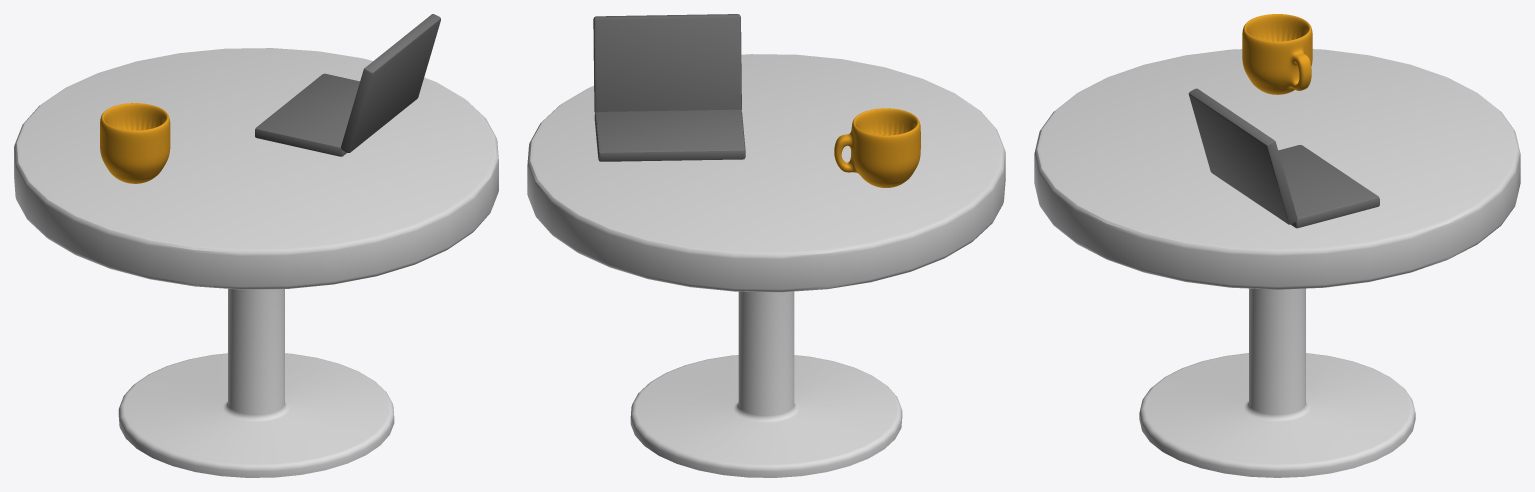
Rendered from table.glb.
The picture shows the model from 3 angles, left to right: view 1: azimuth 30°, elevation 25°; view 2: azimuth 150°, elevation 25°; view 3: azimuth 270°, elevation 25°; orthographic projection.
Visible parts, largest first — view 1: Cafe.001; view 2: Cafe.001; view 3: Cafe.001.
Part boxes in pixels (x1,y1,x2,y2): Cafe.001: (14, 14, 498, 477); Cafe.001: (527, 14, 1005, 477); Cafe.001: (1034, 14, 1520, 477).
Size of the model in its own units: 2.53 by 2.1 by 2.53.
